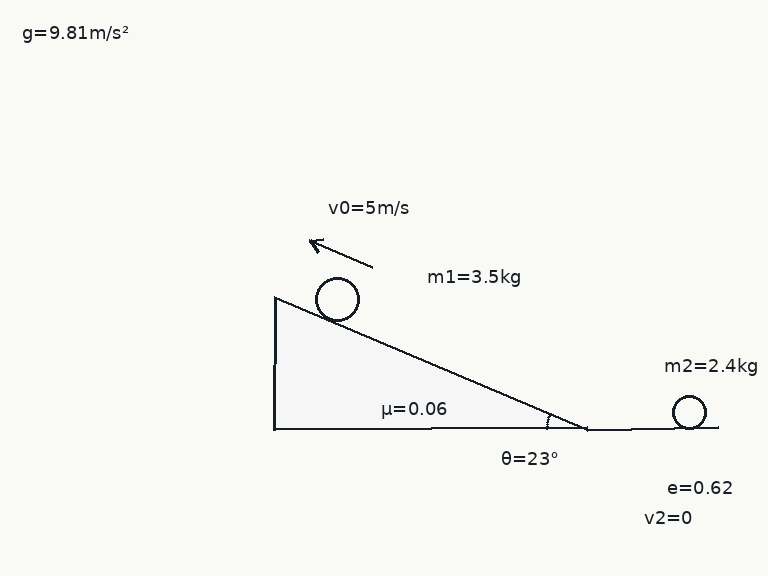ball: (313, 275, 361, 323), (670, 393, 708, 431)
ramp: (273, 295, 589, 431)
